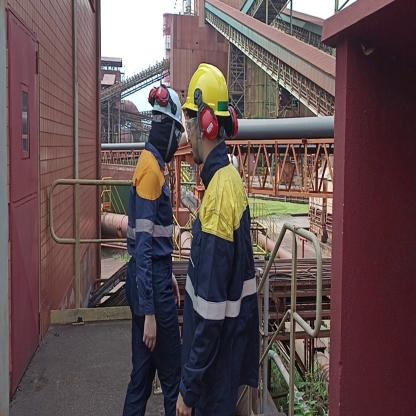Balaclava: (150, 107, 180, 157)
Capacete: (187, 62, 232, 113), (151, 79, 181, 120)
Operacional: (129, 156, 177, 302)
